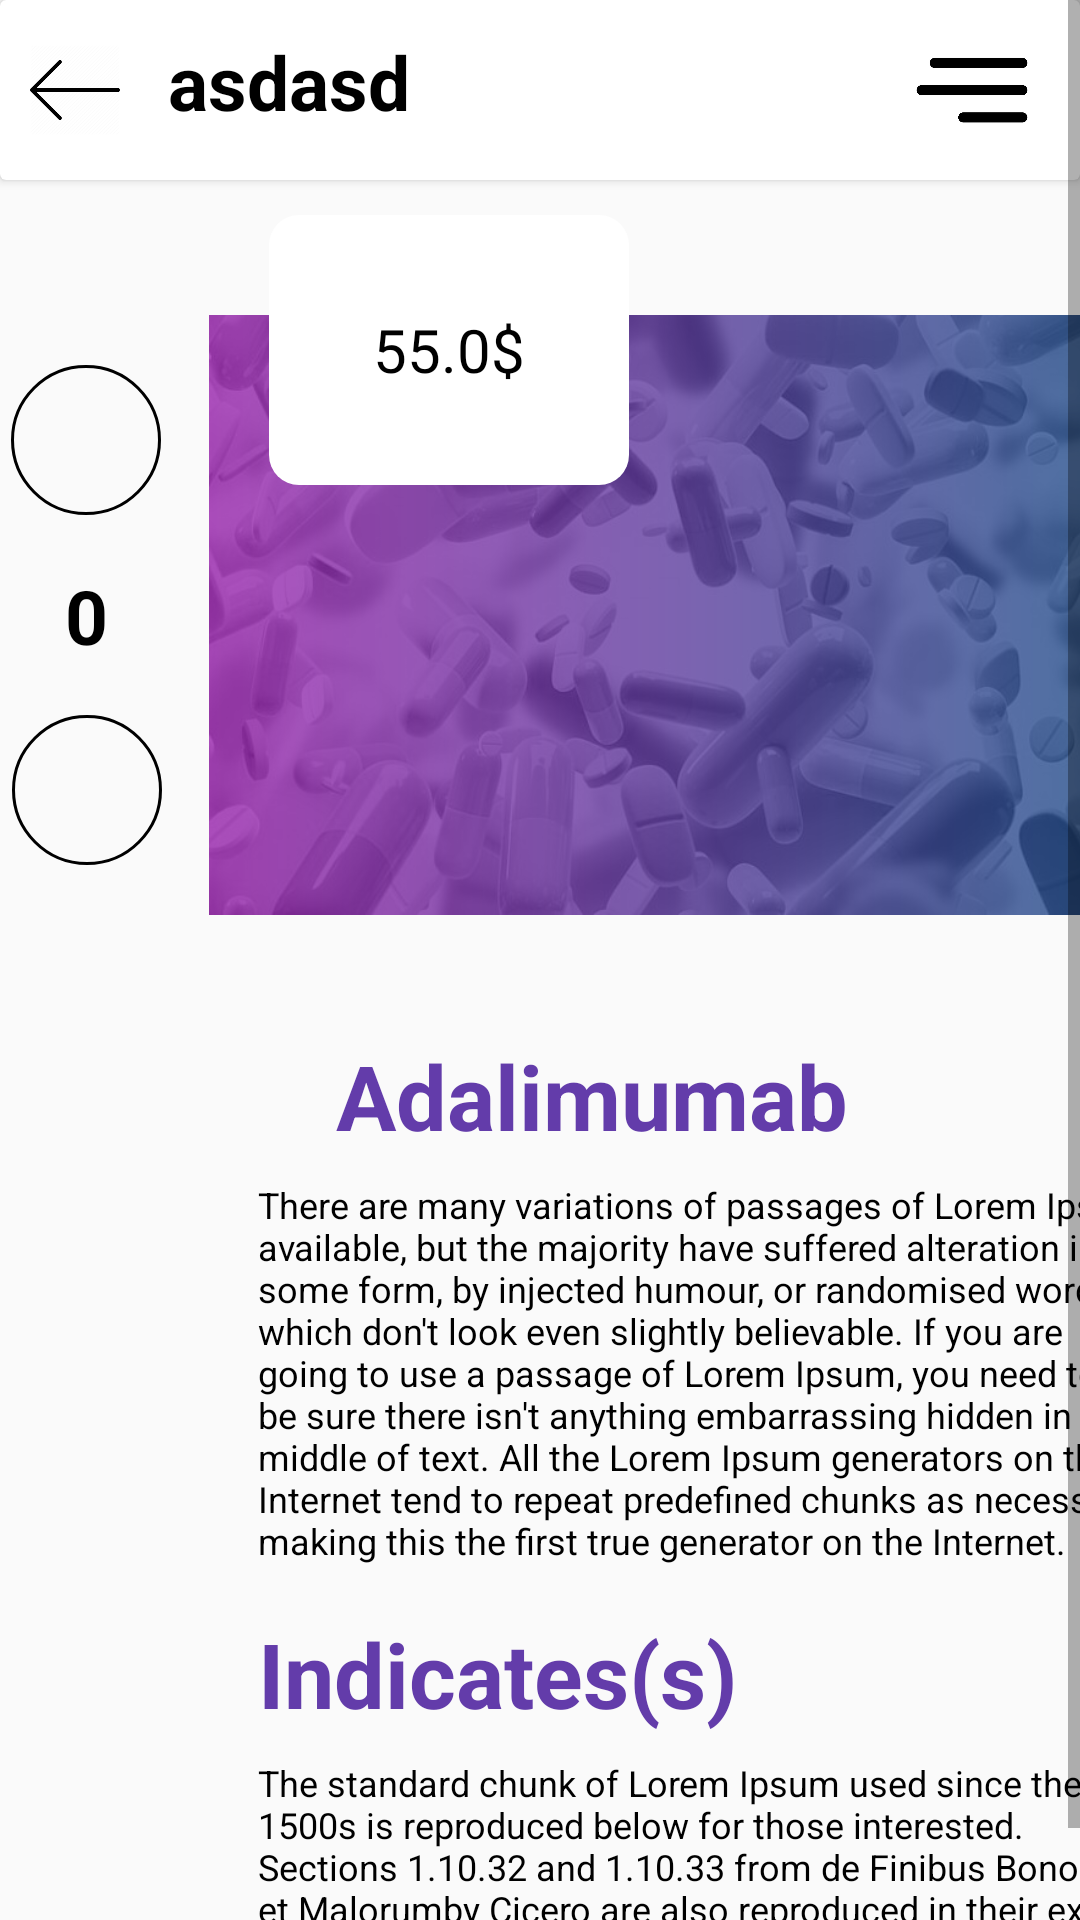

Icons on this 1080*1920 Android screen, each with its box as (x1, y1, x2, y2):
arrow: (30, 60, 120, 120)
custom nav: (916, 58, 1028, 123)
